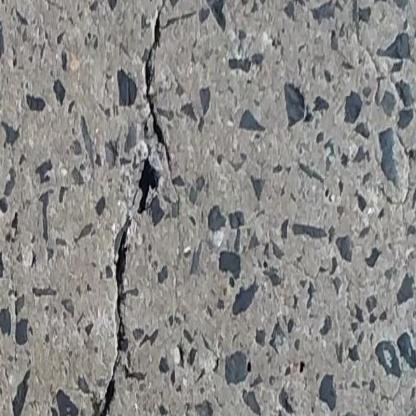Cracks: (93, 0, 176, 416)
